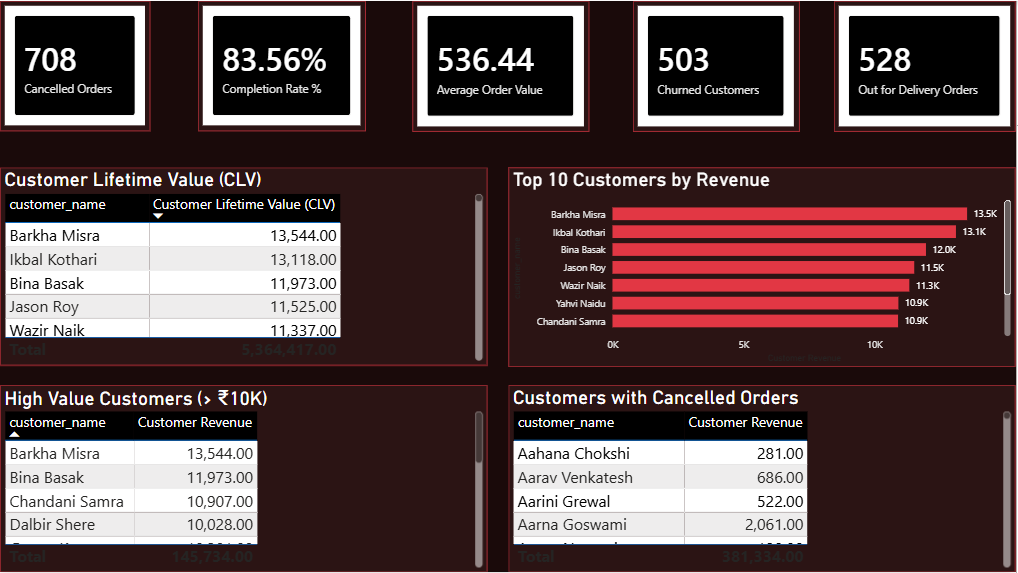

This screenshot's page, from the dashboard's own definition file:
{"tool":"powerbi","page":{"name":"Customers Insight","canvas":[1280,720],"ordinal":1},"visuals":[{"type":"tableEx","title":"Customer Lifetime Value (CLV)","fields":{"Values":["zomato_db customers.customer_name","Sum(zomato_db orders.total_amount)"]},"box":[167.8,209.3,351.4,250.7],"z":0},{"type":"cardVisual","fields":{"Data":["zomato_db customers.Cancelled Orders"]},"box":[0,0,189.5,163.9],"z":1000},{"type":"cardVisual","fields":{"Data":["zomato_db customers.Completion Rate %"]},"box":[248.8,0,211.3,163.9],"z":2000},{"type":"cardVisual","fields":{"Data":["zomato_db customers.Average Order Value"]},"box":[519.2,0,219.1,163.9],"z":3000},{"type":"cardVisual","fields":{"Data":["zomato_db customers.Out for Delivery Orders"]},"box":[1083.9,0,195.5,163.9],"z":4000},{"type":"tableEx","title":"High Value Customers (> ₹10K)","fields":{"Values":["zomato_db customers.customer_name","zomato_db customers.Customer Revenue"]},"box":[169.8,483.7,373.1,236.9],"z":5000},{"type":"cardVisual","fields":{"Data":["zomato_db customers.Churned Customers"]},"box":[797.6,0,227,163.9],"z":7000},{"type":"tableEx","title":"Customers with Cancelled Orders","fields":{"Values":["zomato_db customers.customer_name","zomato_db customers.Customer Revenue"]},"box":[772,483.7,369.2,236.9],"z":8000},{"type":"clusteredBarChart","title":"Top 10 Customers by Revenue","fields":{"Category":["zomato_db customers.customer_name"],"Y":["zomato_db customers.Customer Revenue"]},"box":[772,209.3,408.7,274.4],"z":9000}]}

Visuals, with their boxes in screenshot pixels (x1, y1, x2, y2), scaled from the page's 1280x720 canvas onto the 1018x573 screenshot:
"Customer Lifetime Value (CLV)" tableEx: locate(133, 167, 413, 366)
cardVisual - zomato_db customers.Cancelled Orders: locate(0, 0, 151, 130)
cardVisual - zomato_db customers.Completion Rate %: locate(198, 0, 366, 130)
cardVisual - zomato_db customers.Average Order Value: locate(413, 0, 587, 130)
cardVisual - zomato_db customers.Out for Delivery Orders: locate(862, 0, 1017, 130)
"High Value Customers (> ₹10K)" tableEx: locate(135, 385, 432, 572)
cardVisual - zomato_db customers.Churned Customers: locate(634, 0, 815, 130)
"Customers with Cancelled Orders" tableEx: locate(614, 385, 908, 572)
"Top 10 Customers by Revenue" clusteredBarChart: locate(614, 167, 939, 385)
